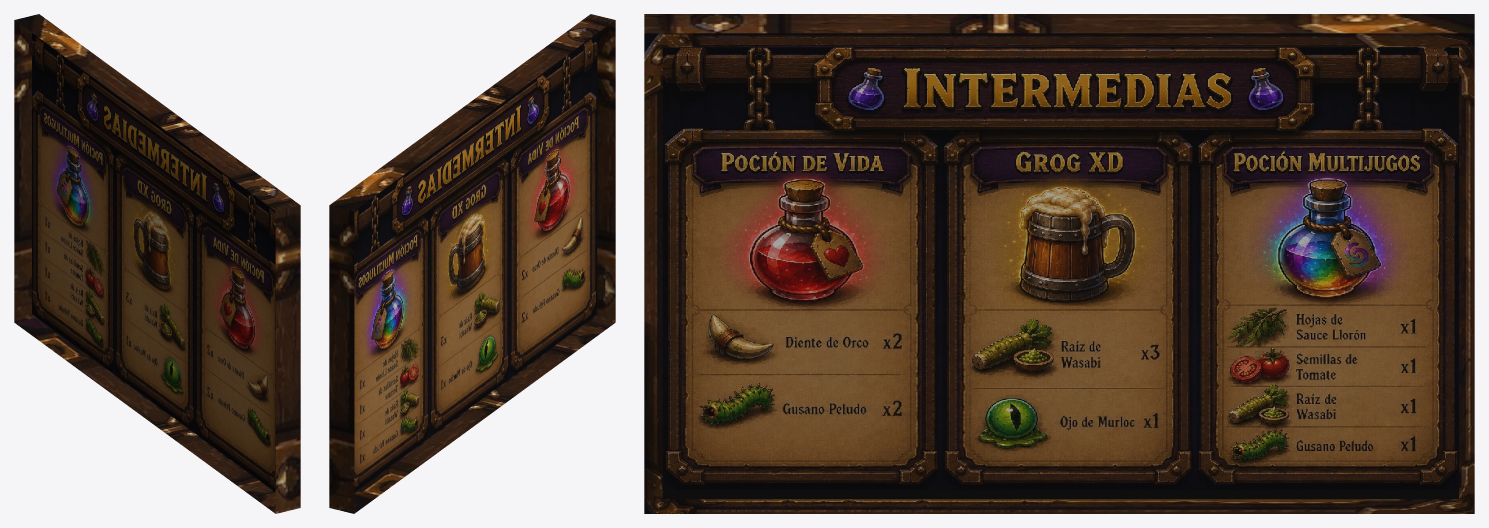
File: Intermedias.fbx
3 views of the same model, side by side, from view 1: azimuth 30°, elevation 25°; view 2: azimuth 150°, elevation 25°; view 3: azimuth 270°, elevation 25° (orthographic). The views are drawn at different scales.
Visible parts, largest first — view 1: Medium; view 2: Medium; view 3: Medium.
Boxes of the visible parts, left/top/right/bottom form: Medium: left=14, top=14, right=300, bottom=513; Medium: left=329, top=14, right=615, bottom=513; Medium: left=644, top=14, right=1474, bottom=513.
Bounding box in the file's own units: 14.83 × 173 × 271.
Materials: 1 (1 with a texture image).
